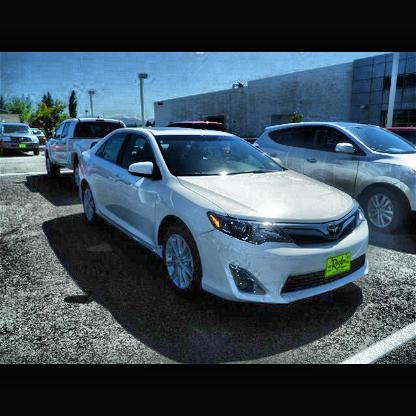Toyota Camry Sedan 2012: (77, 128, 372, 308)
